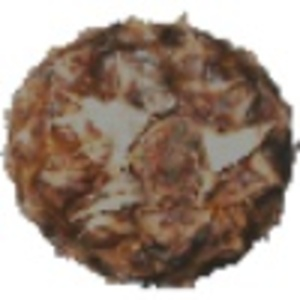abacaxi: (7, 10, 286, 277)
